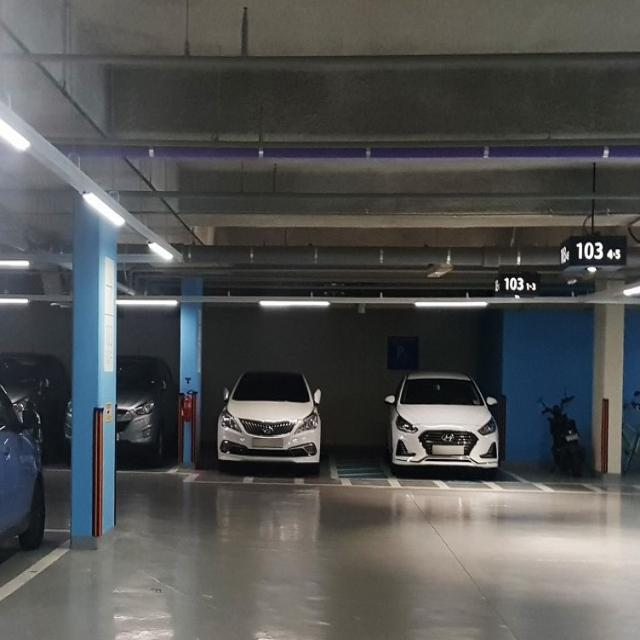occupied: (384, 371, 506, 476), (216, 366, 320, 478)
